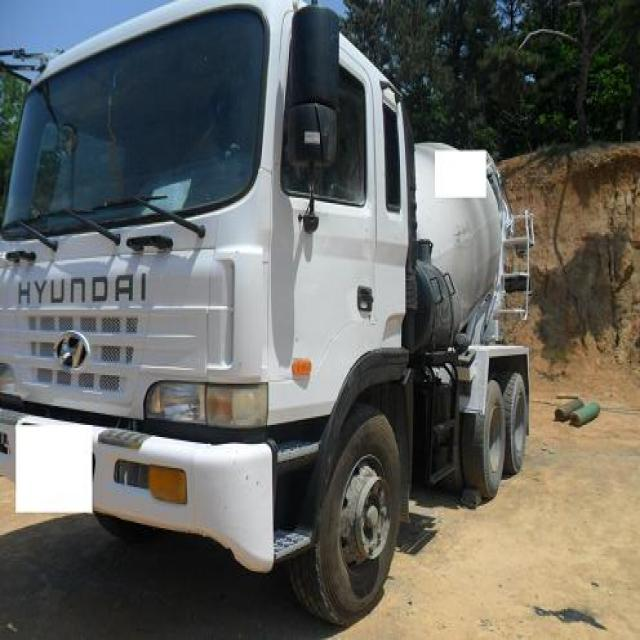Mixer Truck: (0, 0, 534, 625)
